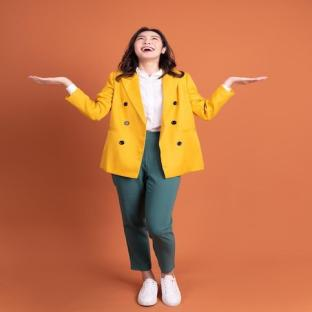Human: (29, 27, 266, 306)
